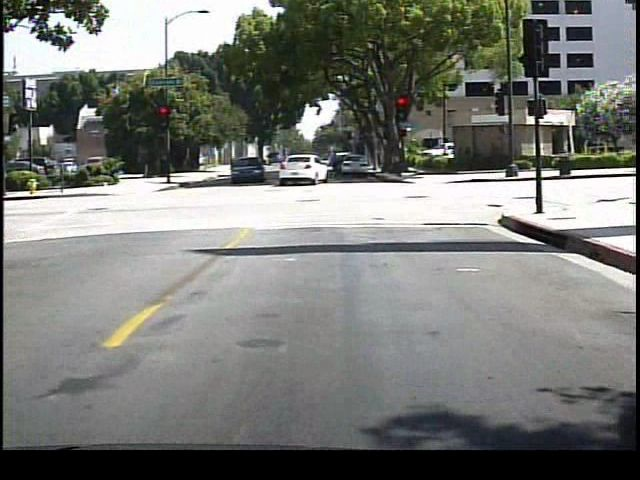person: (327, 145, 344, 188)
